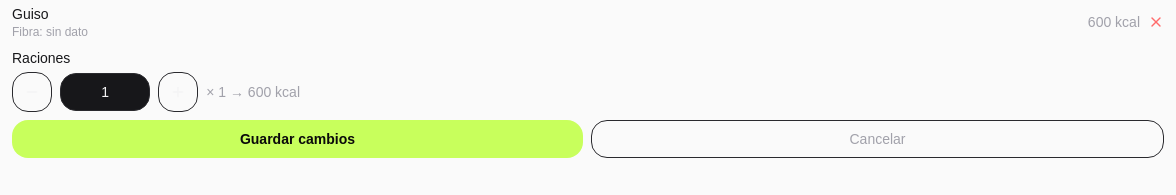
Test: Regresiones del editor de cantidad (#174, #175, #176) › #176: raciones no válidas muestran el error al escribir y desactivan «Guardar cambios», como en gramos
Replace the text in the field labelled "Raciones" with "0,3": (105, 92) [60,73,150,111]
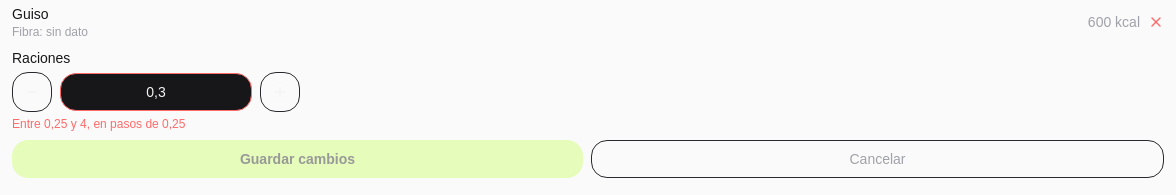
Expected: the message reads "Entre 0,25 y 4, en pasos de 0,25", [12,117,186,131]
Expected: the button "Guardar cambios" is disabled, [12,140,583,178]
